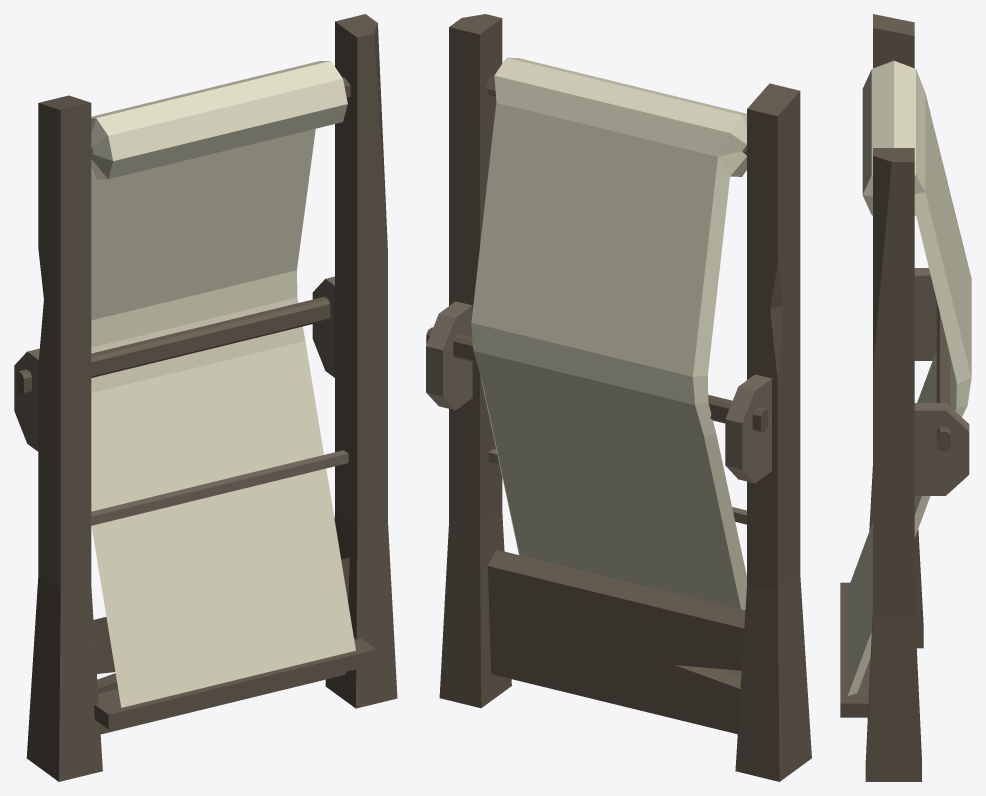
File: Loom.glb
3 views of the same model, side by side, from view 1: azimuth 30°, elevation 25°; view 2: azimuth 150°, elevation 25°; view 3: azimuth 270°, elevation 25° (orthographic). The views are drawn at different scales.
Visible parts, largest first — view 1: Loom; view 2: Loom; view 3: Loom.
Part boxes in pixels (x1=…): Loom: x1=14, y1=14, x2=397, y2=781; Loom: x1=426, y1=14, x2=811, y2=781; Loom: x1=840, y1=14, x2=971, y2=781.
Bounding box in the file's own units: 1.16 × 2.18 × 0.42.
1 material, 1 textured.
